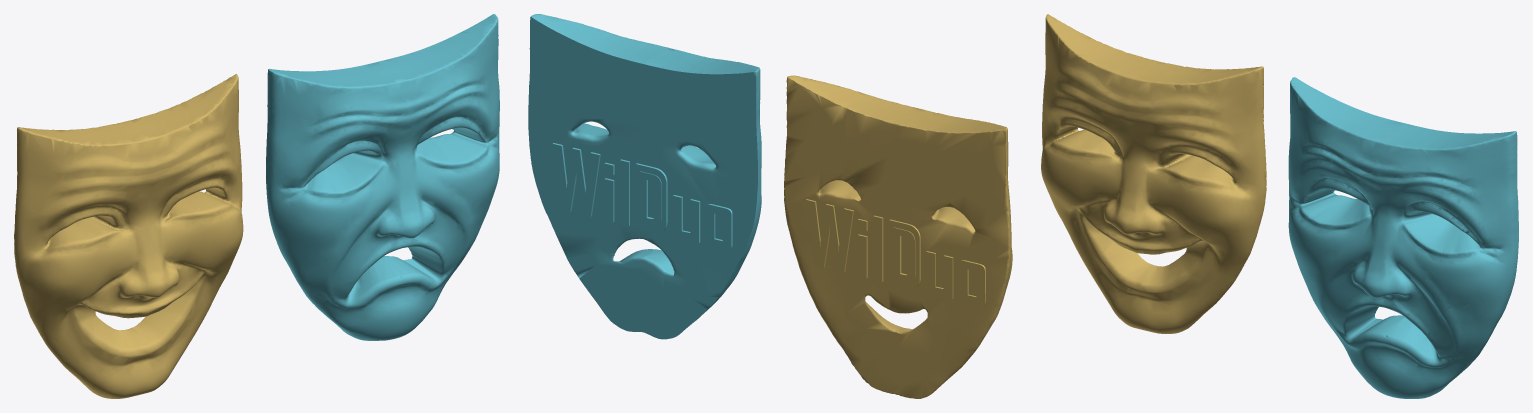
File: theater_masks.glb
The picture shows the model from 3 angles, left to right: view 1: azimuth 30°, elevation 25°; view 2: azimuth 150°, elevation 25°; view 3: azimuth 330°, elevation 25°; orthographic projection.
Visible parts, largest first — view 1: Object_2; view 2: Object_2; view 3: Object_2.
Part boxes in pixels (bbox=[...]): Object_2: bbox=[14, 14, 499, 398]; Object_2: bbox=[528, 14, 1012, 398]; Object_2: bbox=[1041, 14, 1518, 398].
Bounding box in the file's own units: 86.61 × 50.54 × 11.05.
